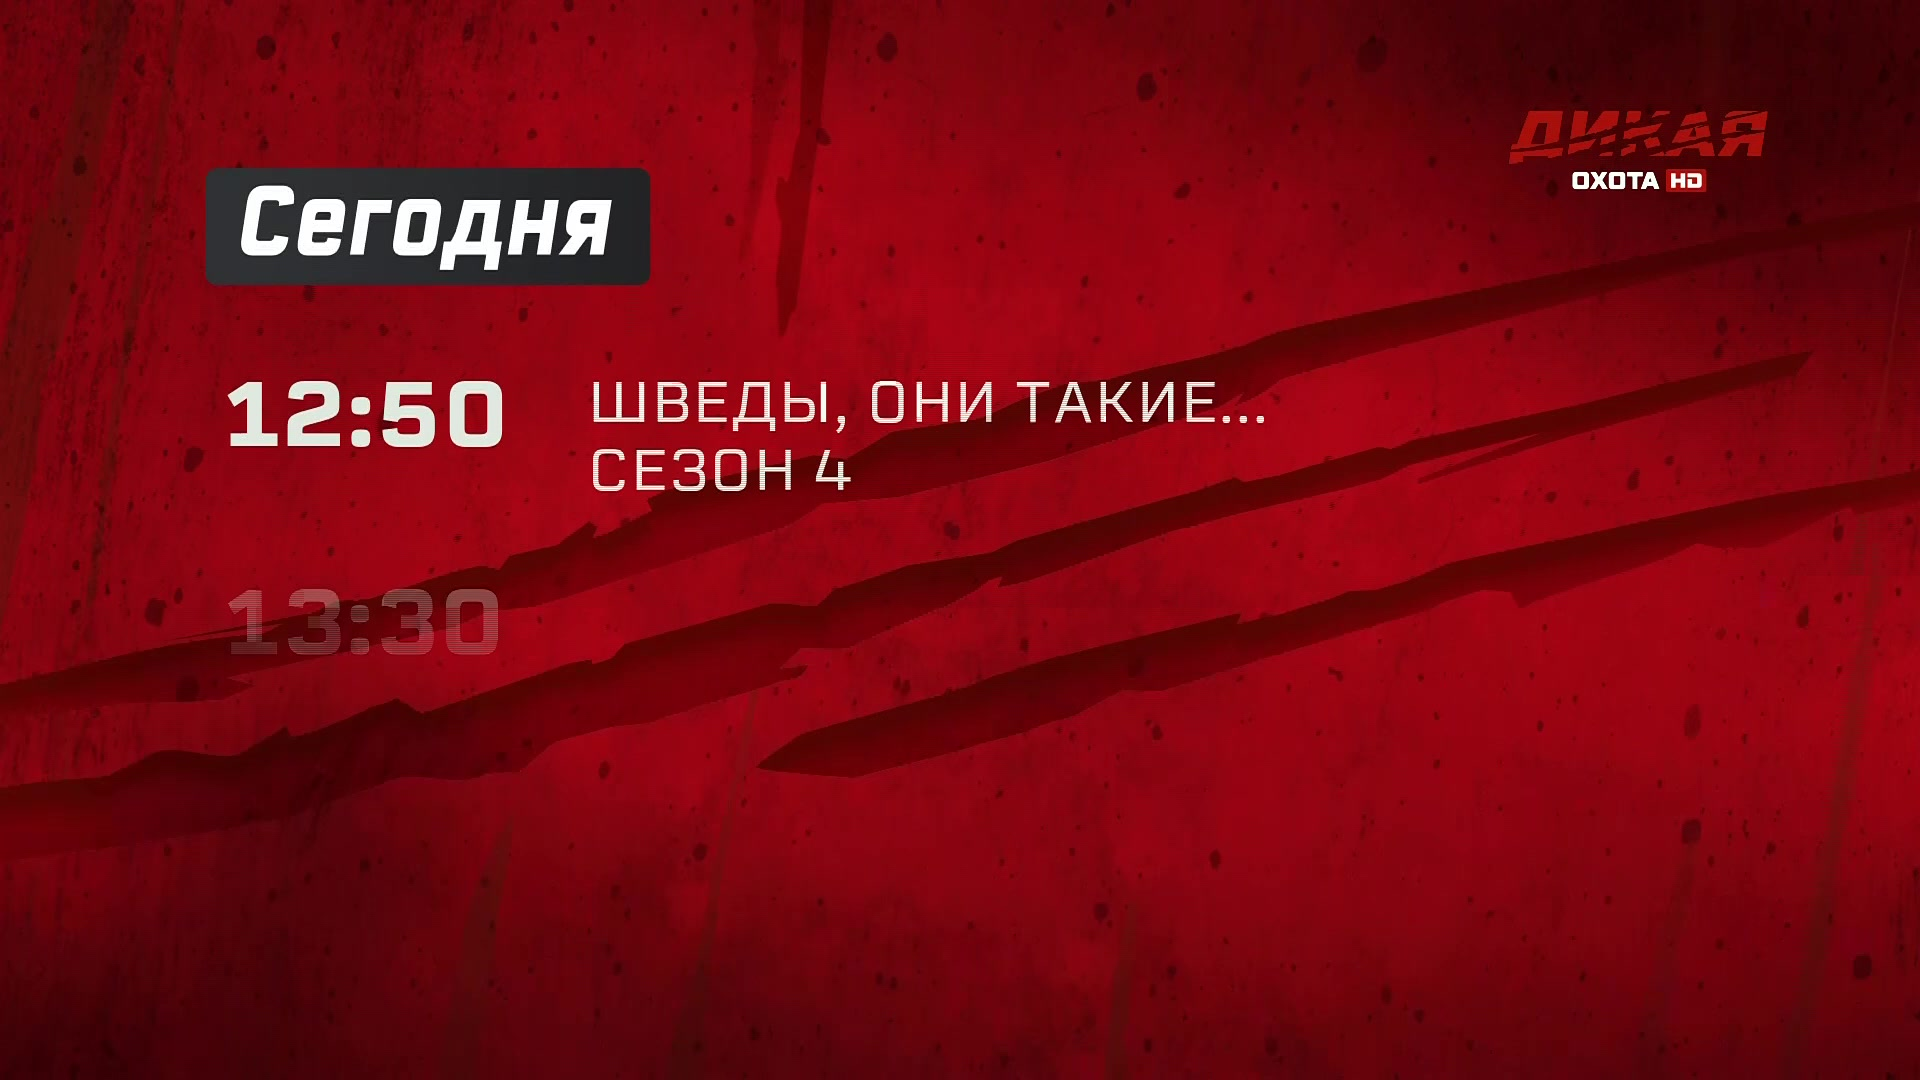Dikaya_Ohota_HD: (1507, 105, 1771, 196)
